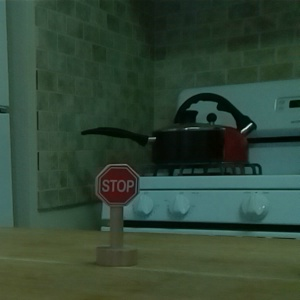stop sign: (91, 161, 143, 269)
